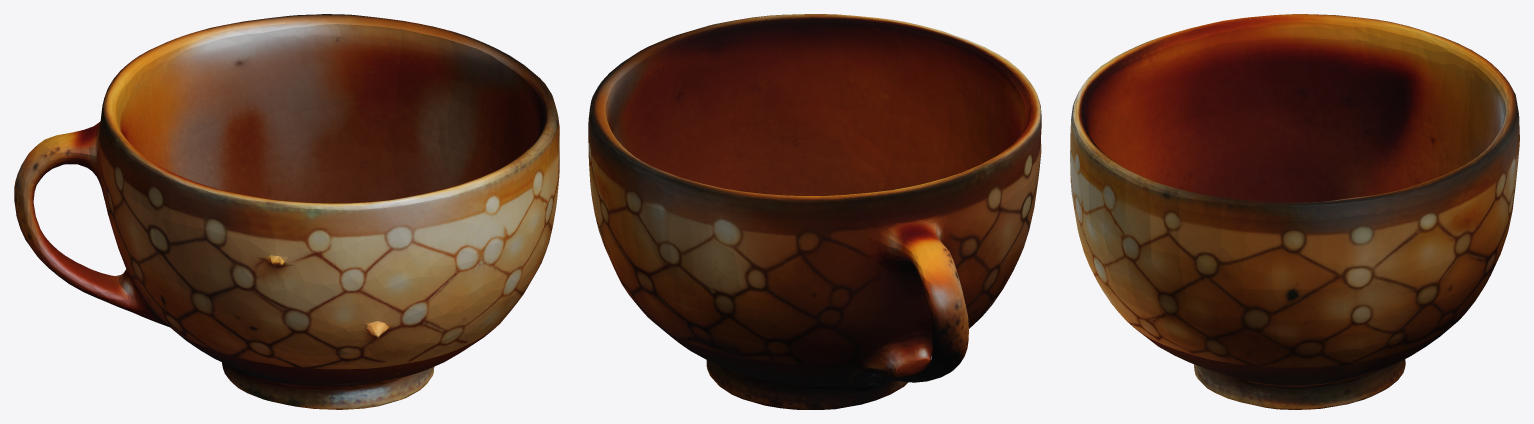
File: ceramic-exotic-teacup-used-rustic-worn.jpeg.glb
3 views of the same model, side by side, from view 1: azimuth 30°, elevation 25°; view 2: azimuth 150°, elevation 25°; view 3: azimuth 270°, elevation 25° (orthographic).
Visible parts, largest first — view 1: world; view 2: world; view 3: world.
Boxes of the visible parts, box(x1,y1,x2,y2) form: world: box(14, 14, 559, 409); world: box(588, 14, 1041, 409); world: box(1070, 14, 1519, 409).
Bounding box in the file's own units: 1 × 0.59 × 0.9249.
Materials: 1 (1 with a texture image).
